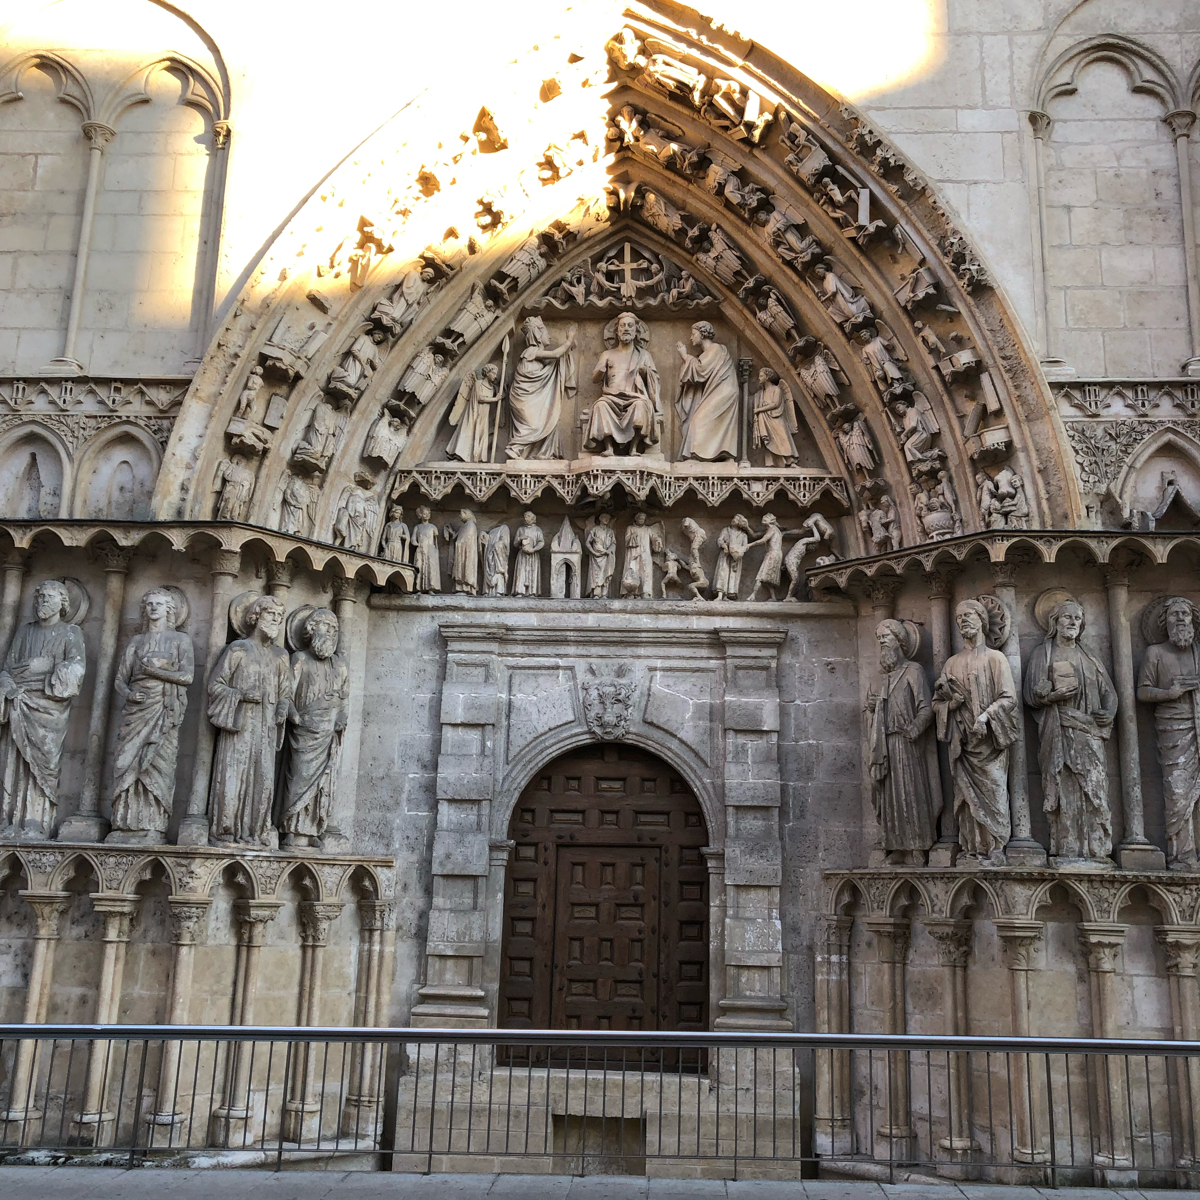arco-apuntado: (144, 1, 1053, 524)
arco-medio-punto: (496, 723, 718, 868)
